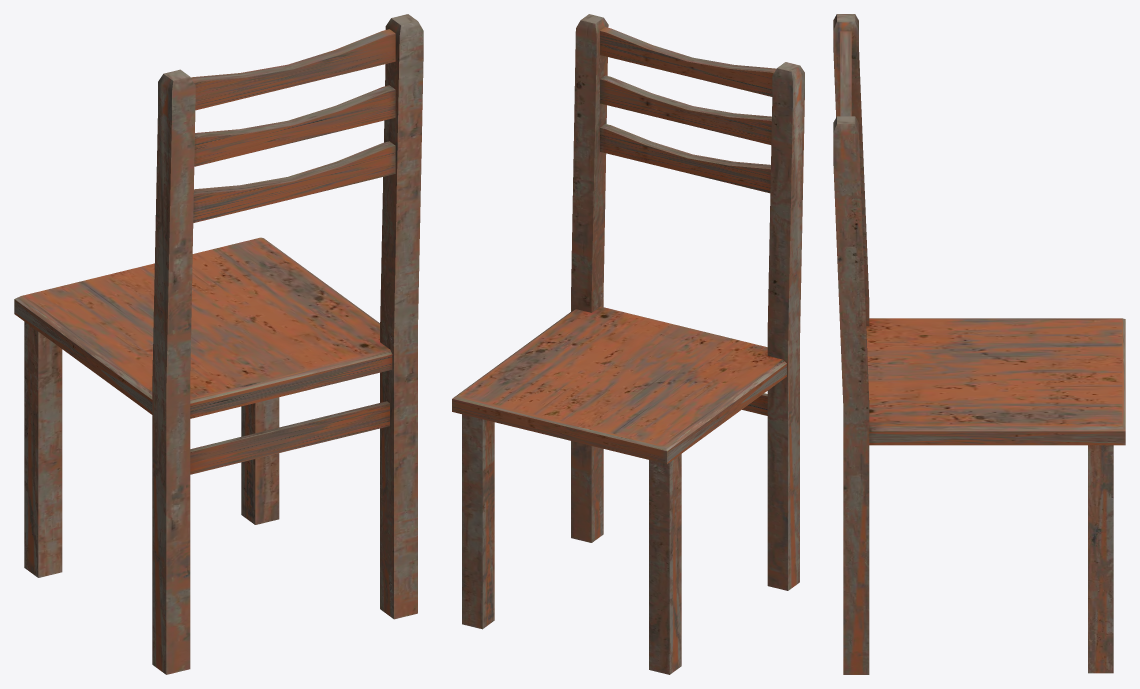
File: chair.glb
3 views of the same model, side by side, from view 1: azimuth 30°, elevation 25°; view 2: azimuth 150°, elevation 25°; view 3: azimuth 270°, elevation 25° (orthographic). The views are drawn at different scales.
Visible parts, largest first — view 1: Object_3; view 2: Object_3; view 3: Object_3.
Boxes of the visible parts, x1,y1,x2,y2 form: Object_3: (14,14,423,674); Object_3: (452,14,804,674); Object_3: (833,14,1125,674).
Bounding box in the file's own units: 3.75 × 8.51 × 4.1.
Materials: 1 (1 with a texture image).
